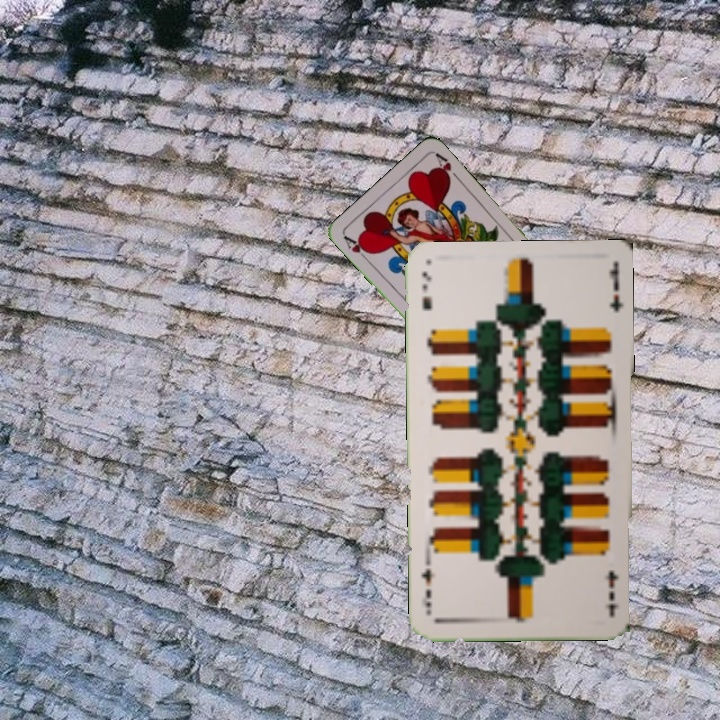E7: (418, 268, 435, 313), (601, 567, 621, 603)
HA: (339, 231, 373, 264)
